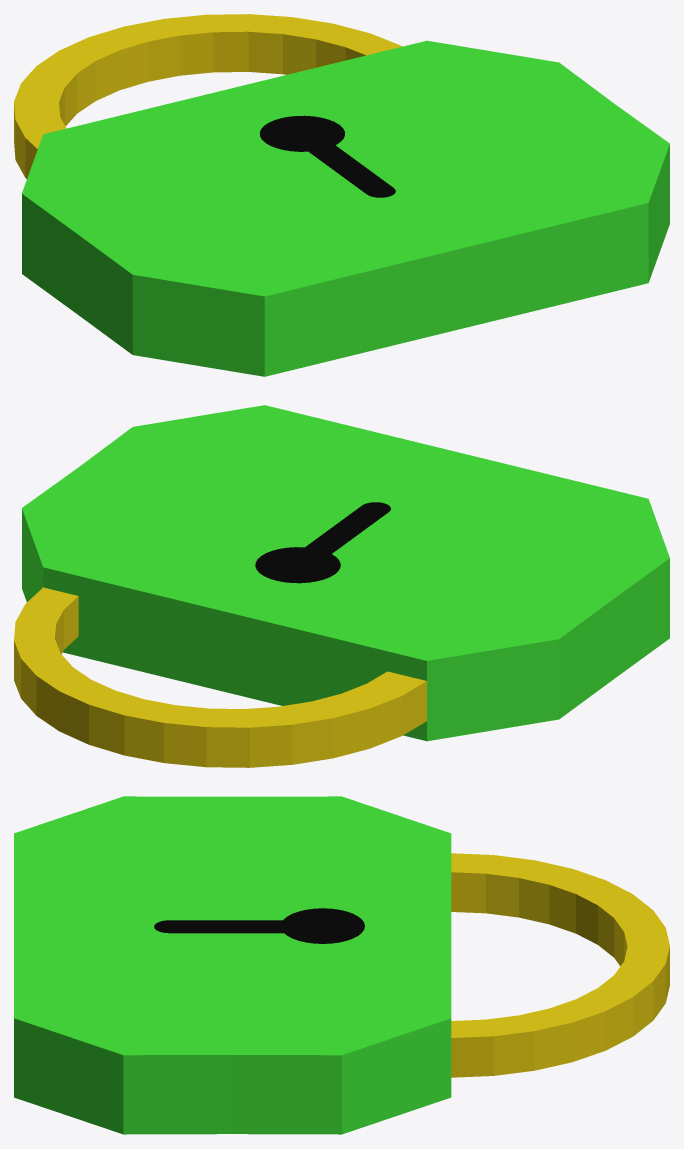
The model's file is Green Lock.fbx.
3 renders of one model, top to bottom at view 1: azimuth 30°, elevation 25°; view 2: azimuth 150°, elevation 25°; view 3: azimuth 270°, elevation 25°, orthographic.
Parts seen in each view (by area): view 1: LockBody, LockThingy, BigCircleKeyhole, BodyKeyhole; view 2: LockBody, LockThingy, BigCircleKeyhole, BodyKeyhole; view 3: LockBody, LockThingy, BigCircleKeyhole, BodyKeyhole.
Part boxes in pixels (x1,y1,x2,y2): LockBody: (22, 40, 669, 376); LockThingy: (14, 14, 402, 178); BigCircleKeyhole: (260, 115, 344, 151); BodyKeyhole: (309, 145, 393, 194); LockBody: (22, 405, 669, 741); LockThingy: (14, 587, 426, 767); BigCircleKeyhole: (255, 547, 340, 583); BodyKeyhole: (305, 505, 388, 553); LockBody: (14, 796, 451, 1134); LockThingy: (451, 853, 669, 1077); BigCircleKeyhole: (280, 908, 364, 943); BodyKeyhole: (169, 920, 283, 933).
Bounding box in the file's own units: 280 × 40.39 × 300.
